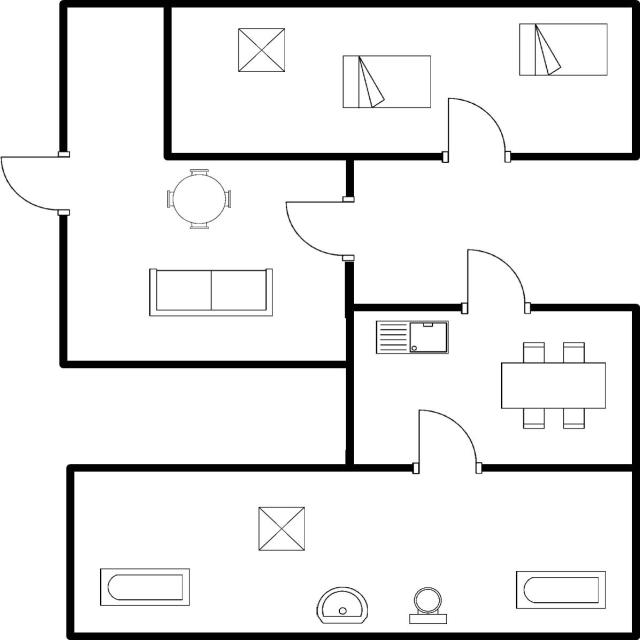bed: (512, 18, 611, 81), (338, 52, 438, 114)
coffee_table: (229, 24, 291, 77), (252, 502, 309, 555)
dining_table: (494, 336, 611, 434)
large_sink: (401, 582, 456, 628)
large_sofa: (143, 264, 277, 322)
round_table: (160, 164, 236, 234)
sink: (370, 316, 453, 359)
small_sink: (311, 582, 372, 627)
tub: (509, 564, 611, 614), (95, 564, 195, 610)
